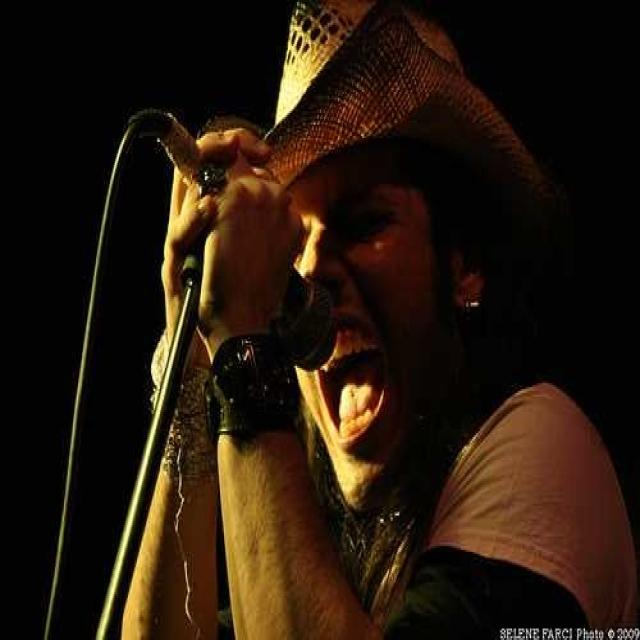microphone: (150, 108, 340, 374)
